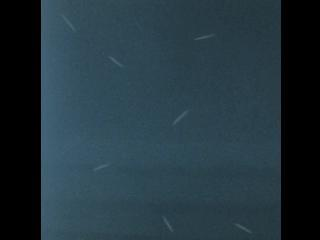scratch: (59, 10, 80, 36), (105, 49, 126, 73), (90, 159, 116, 174), (194, 29, 217, 45), (173, 108, 191, 125), (233, 222, 253, 234), (161, 217, 174, 233)
